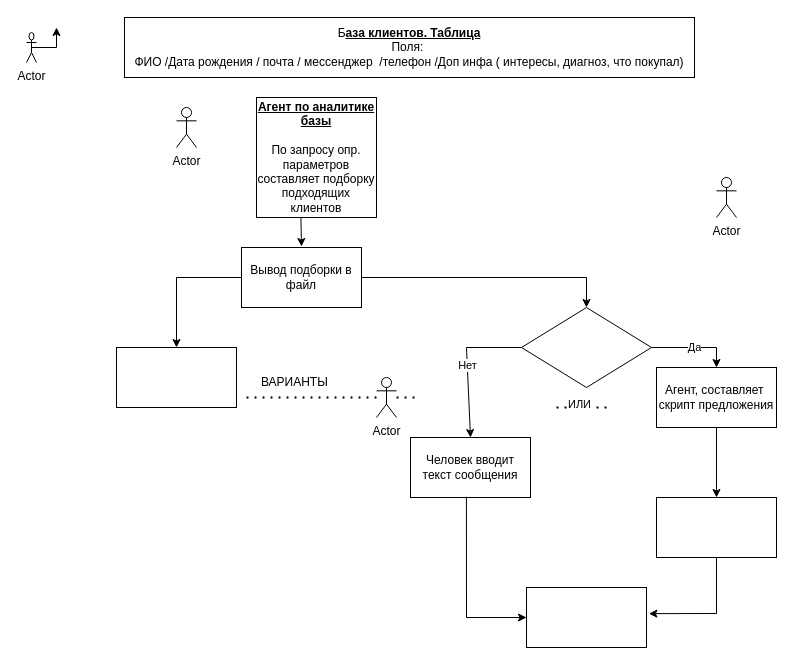
This 794x665 diagram has some shape labels left out. Here are the shapes that lost their labels. From the top down, the centre of each, then its label:
At [586,347]: "Подготовить скрипт агентом".
At [176,377]: "Для России: оператор сам обзванивает".
At [716,527]: "Человек одобряет".
At [586,617]: "Отправка по отобранной базе по почте или ТГ".
